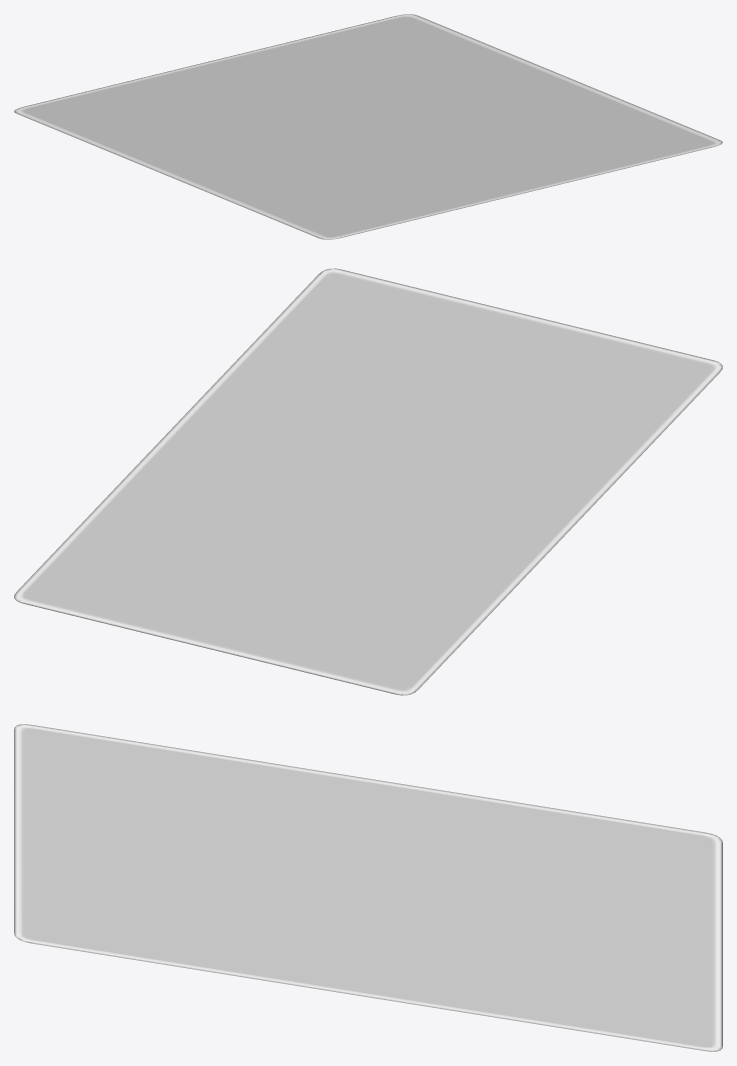
File: Highlight_Slot_Active.fbx
3 renders of one model, top to bottom at view 1: azimuth 30°, elevation 25°; view 2: azimuth 150°, elevation 25°; view 3: azimuth 270°, elevation 25°, orthographic. The views are drawn at different scales.
Visible parts, largest first — view 1: Highlight_Slot_Active; view 2: Highlight_Slot_Active; view 3: Highlight_Slot_Active.
Boxes of the visible parts, x1=… form: Highlight_Slot_Active: x1=14, y1=14, x2=722, y2=239; Highlight_Slot_Active: x1=14, y1=268, x2=722, y2=695; Highlight_Slot_Active: x1=14, y1=724, x2=722, y2=1051.
Bounding box in the file's own units: 1.95 × 0.4709 × 2.67.
